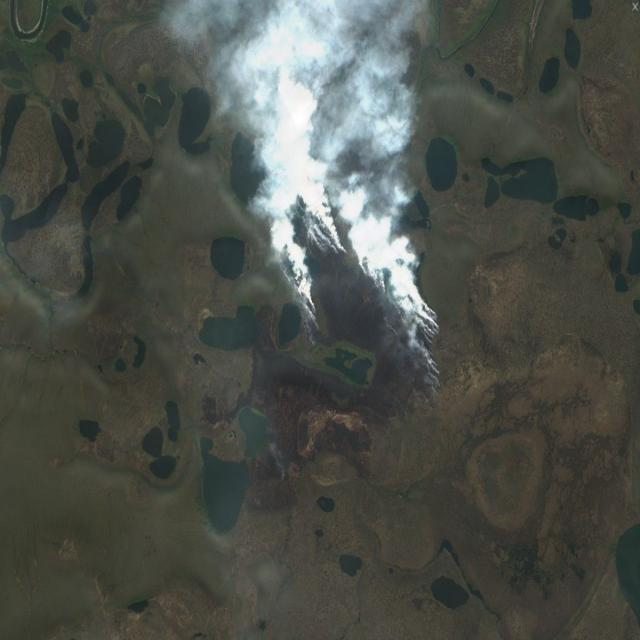fire: (282, 173, 448, 411)
